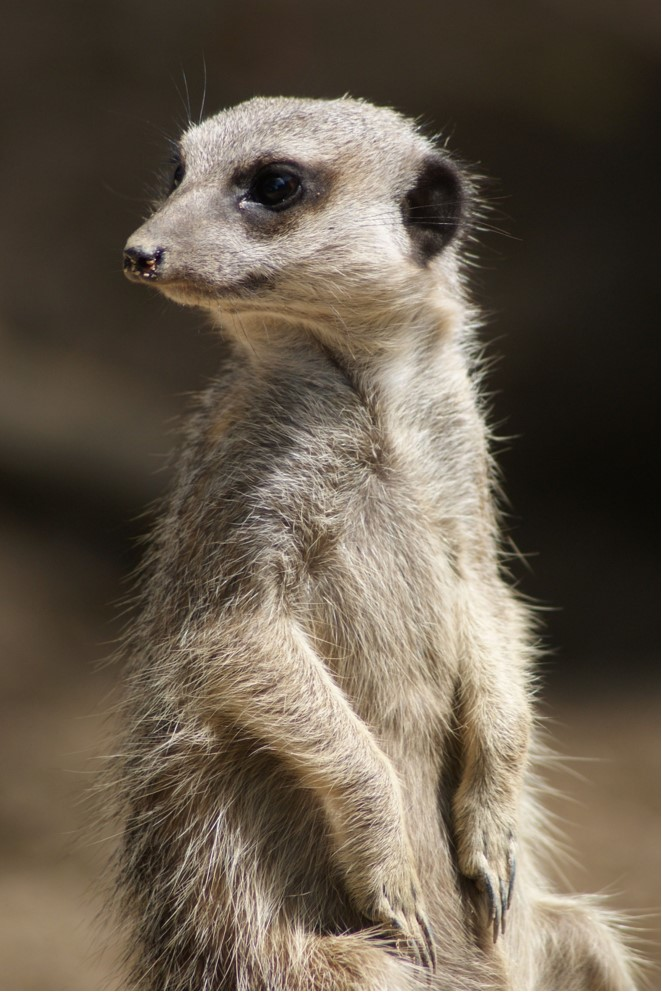meerkat: (83, 64, 660, 992)
